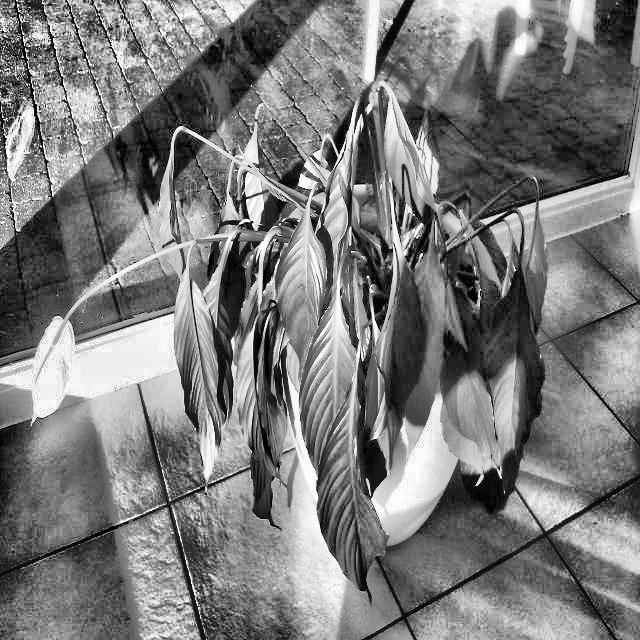plants: (153, 80, 578, 590)
